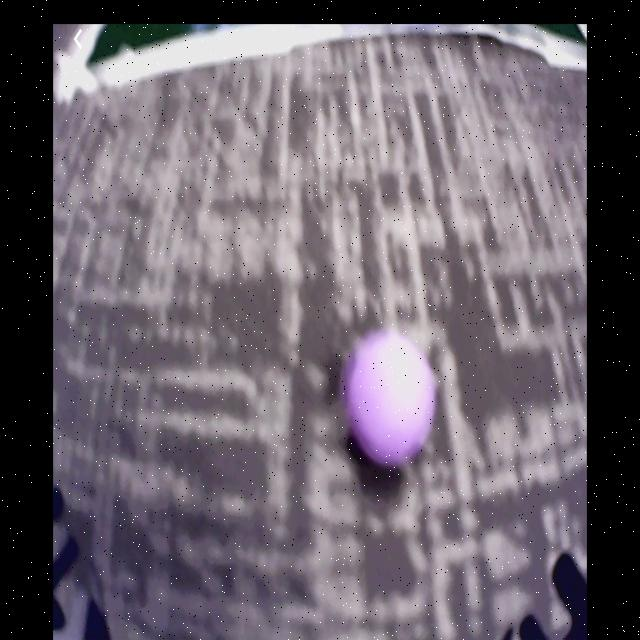ball: (348, 337, 435, 469)
